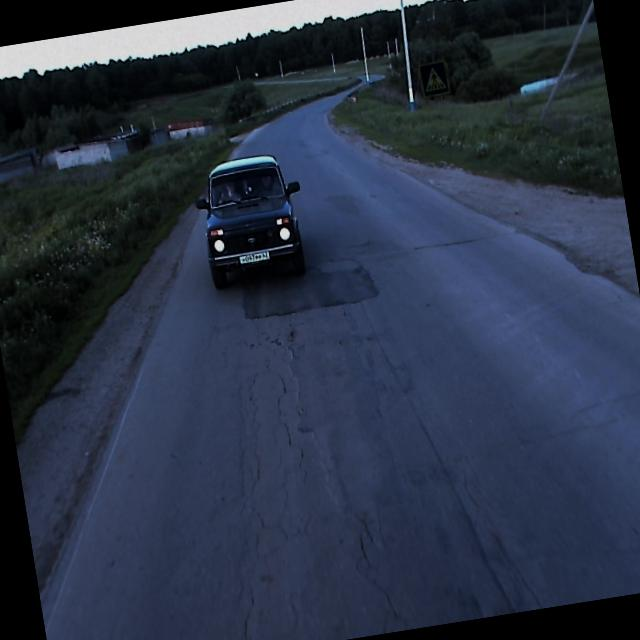road: (41, 96, 640, 640)
